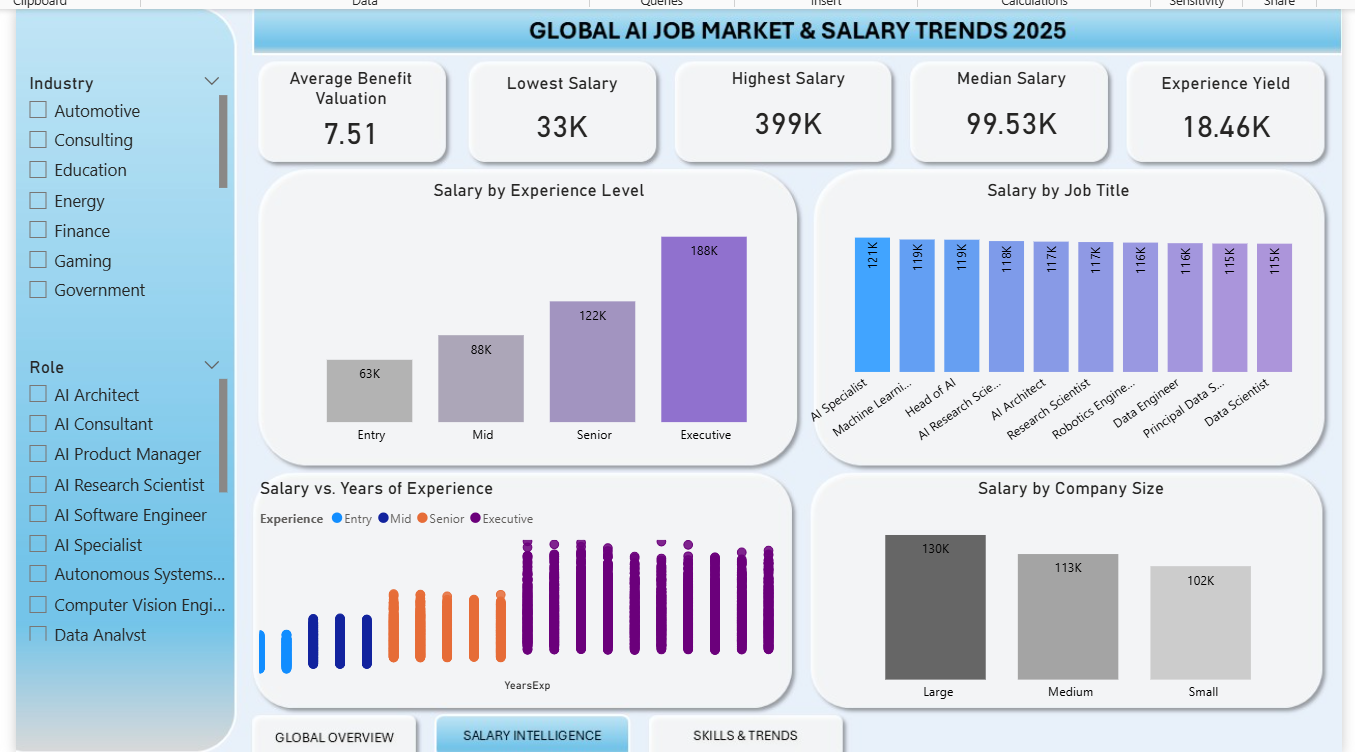

The page's visual inventory and layout, read from the dashboard file:
{"tool":"powerbi","page":{"name":"Salary Intelligence","canvas":[1280,720],"ordinal":1},"visuals":[{"type":"card","title":"Average Benefit Valuation","fields":{"Values":["_Measures.Avg Benefits Score"]},"box":[230.4,56.7,185.8,85.7],"z":0},{"type":"card","title":"Highest Salary","fields":{"Values":["_Measures.Max Salary"]},"box":[668.4,56.7,154.4,85.7],"z":1000},{"type":"card","title":"Median Salary","fields":{"Values":["_Measures.Median Salary"]},"box":[890.4,56.7,141.2,85.7],"z":2000},{"type":"card","title":"Lowest Salary","fields":{"Values":["_Measures.Min Salary"]},"box":[440.4,61.5,173.7,80.8],"z":3000},{"type":"clusteredColumnChart","title":"Salary by Experience Level","fields":{"Category":["DimExperience.Experience"],"Y":["_Measures.Avg Salary"]},"box":[252.5,164.7,505,264.8],"z":4000},{"type":"clusteredColumnChart","title":"Salary by Company Size","fields":{"Category":["FactJobs.CompanySize"],"Y":["_Measures.Avg Salary"]},"box":[783.5,452.8,470.7,225],"z":5000},{"type":"clusteredColumnChart","title":"Salary by Job Title","fields":{"Category":["DimRole.Role"],"Y":["_Measures.Avg Salary"]},"box":[757.6,164.1,497.1,265.4],"z":6000},{"type":"scatterChart","title":"Salary vs. Years of Experience","fields":{"X":["FactJobs.YearsExp"],"Y":["FactJobs.Salary"],"Series":["DimExperience.Experience"]},"box":[230.5,452.8,526.9,211.3],"z":7000},{"type":"slicer","title":"Select Industry","fields":{"Values":["DimIndustry.Industry"]},"box":[0,57,208.7,229.6],"z":8000},{"type":"slicer","title":"Select Role","fields":{"Values":["FactJobs.Role"]},"box":[0,331.1,208.7,283.8],"z":9000},{"type":"card","title":"Experience Yield","fields":{"Values":["_Measures.Salary per Year Exp"]},"box":[1055.6,61.5,224.4,80.8],"z":10000},{"type":"actionButton","box":[230.4,680.4,150.8,39.8],"z":11000},{"type":"actionButton","box":[614.1,680.4,181,39.8],"z":12000}]}

Visuals, with their boxes on the page's 1280x720 design canvas (x1, y1, x2, y2). These are canvas units, not pixel positions in the 1355x752 screenshot, which may show the page scaled, cropped or inside an application window:
"Average Benefit Valuation" card: Rect(230, 57, 416, 142)
"Highest Salary" card: Rect(668, 57, 823, 142)
"Median Salary" card: Rect(890, 57, 1032, 142)
"Lowest Salary" card: Rect(440, 62, 614, 142)
"Salary by Experience Level" clusteredColumnChart: Rect(252, 165, 758, 430)
"Salary by Company Size" clusteredColumnChart: Rect(784, 453, 1254, 678)
"Salary by Job Title" clusteredColumnChart: Rect(758, 164, 1255, 430)
"Salary vs. Years of Experience" scatterChart: Rect(230, 453, 757, 664)
"Select Industry" slicer: Rect(0, 57, 209, 287)
"Select Role" slicer: Rect(0, 331, 209, 615)
"Experience Yield" card: Rect(1056, 62, 1280, 142)
actionButton: Rect(230, 680, 381, 720)
actionButton: Rect(614, 680, 795, 720)
